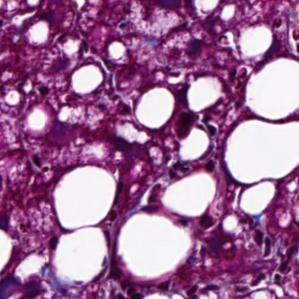inflammation: (100, 123, 152, 170), (166, 23, 216, 71)
